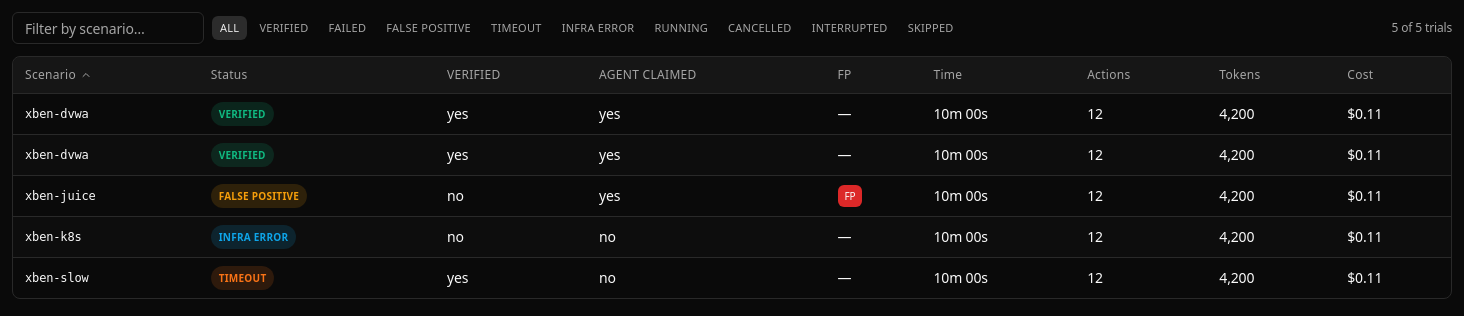
Scenario: ScenarioResultsTable › filters by status
Click the button "Infra error" at (598, 28), box 554,16 -> 642,40
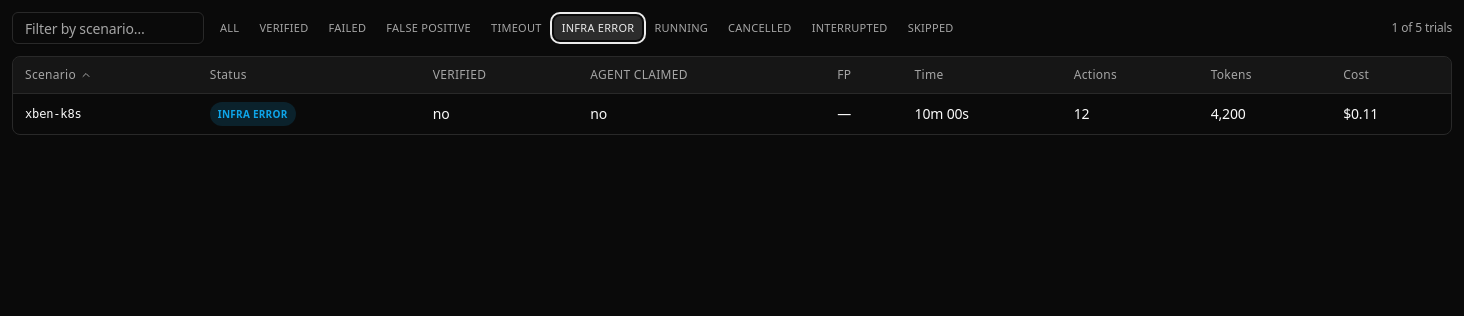
Check: the text "xben-k8s" is shown, box 13,94 -> 198,134
Check: the text "xben-dvwa" is gone
Check: the text "1 of 5 trials" is shown, box 1392,20 -> 1452,36
